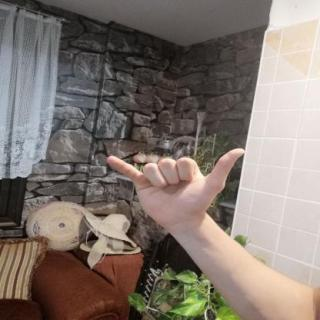YA: (95, 142, 255, 236)
